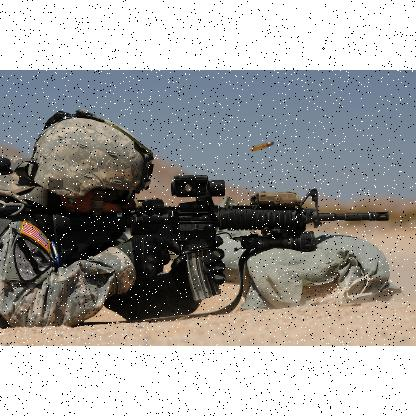gun: (52, 174, 386, 300)
